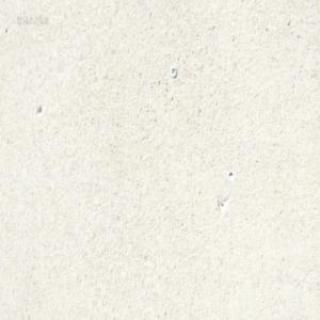Washertrack_idkeyframe: (170, 66, 177, 77)
